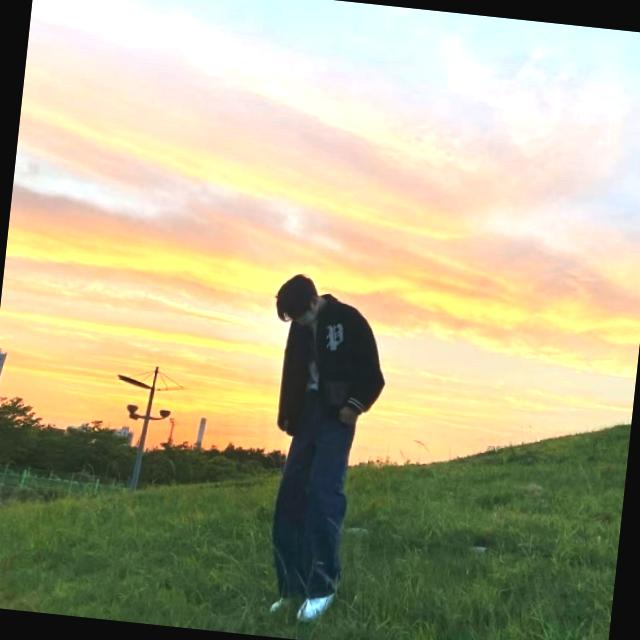denimpants: (264, 386, 360, 605)
jacket: (272, 290, 393, 442)
